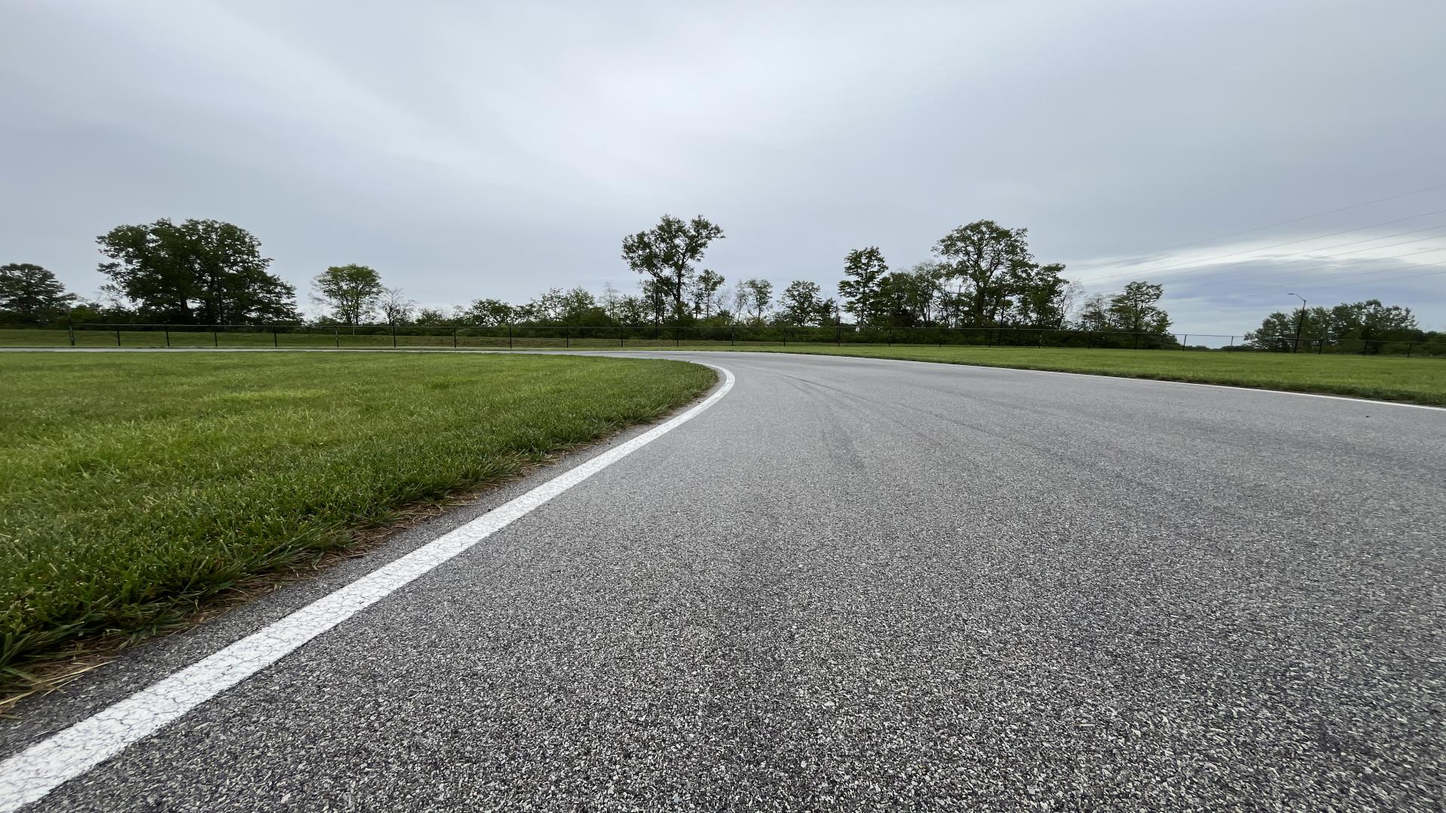white-line: (0, 403, 710, 812), (1283, 392, 1445, 410)
